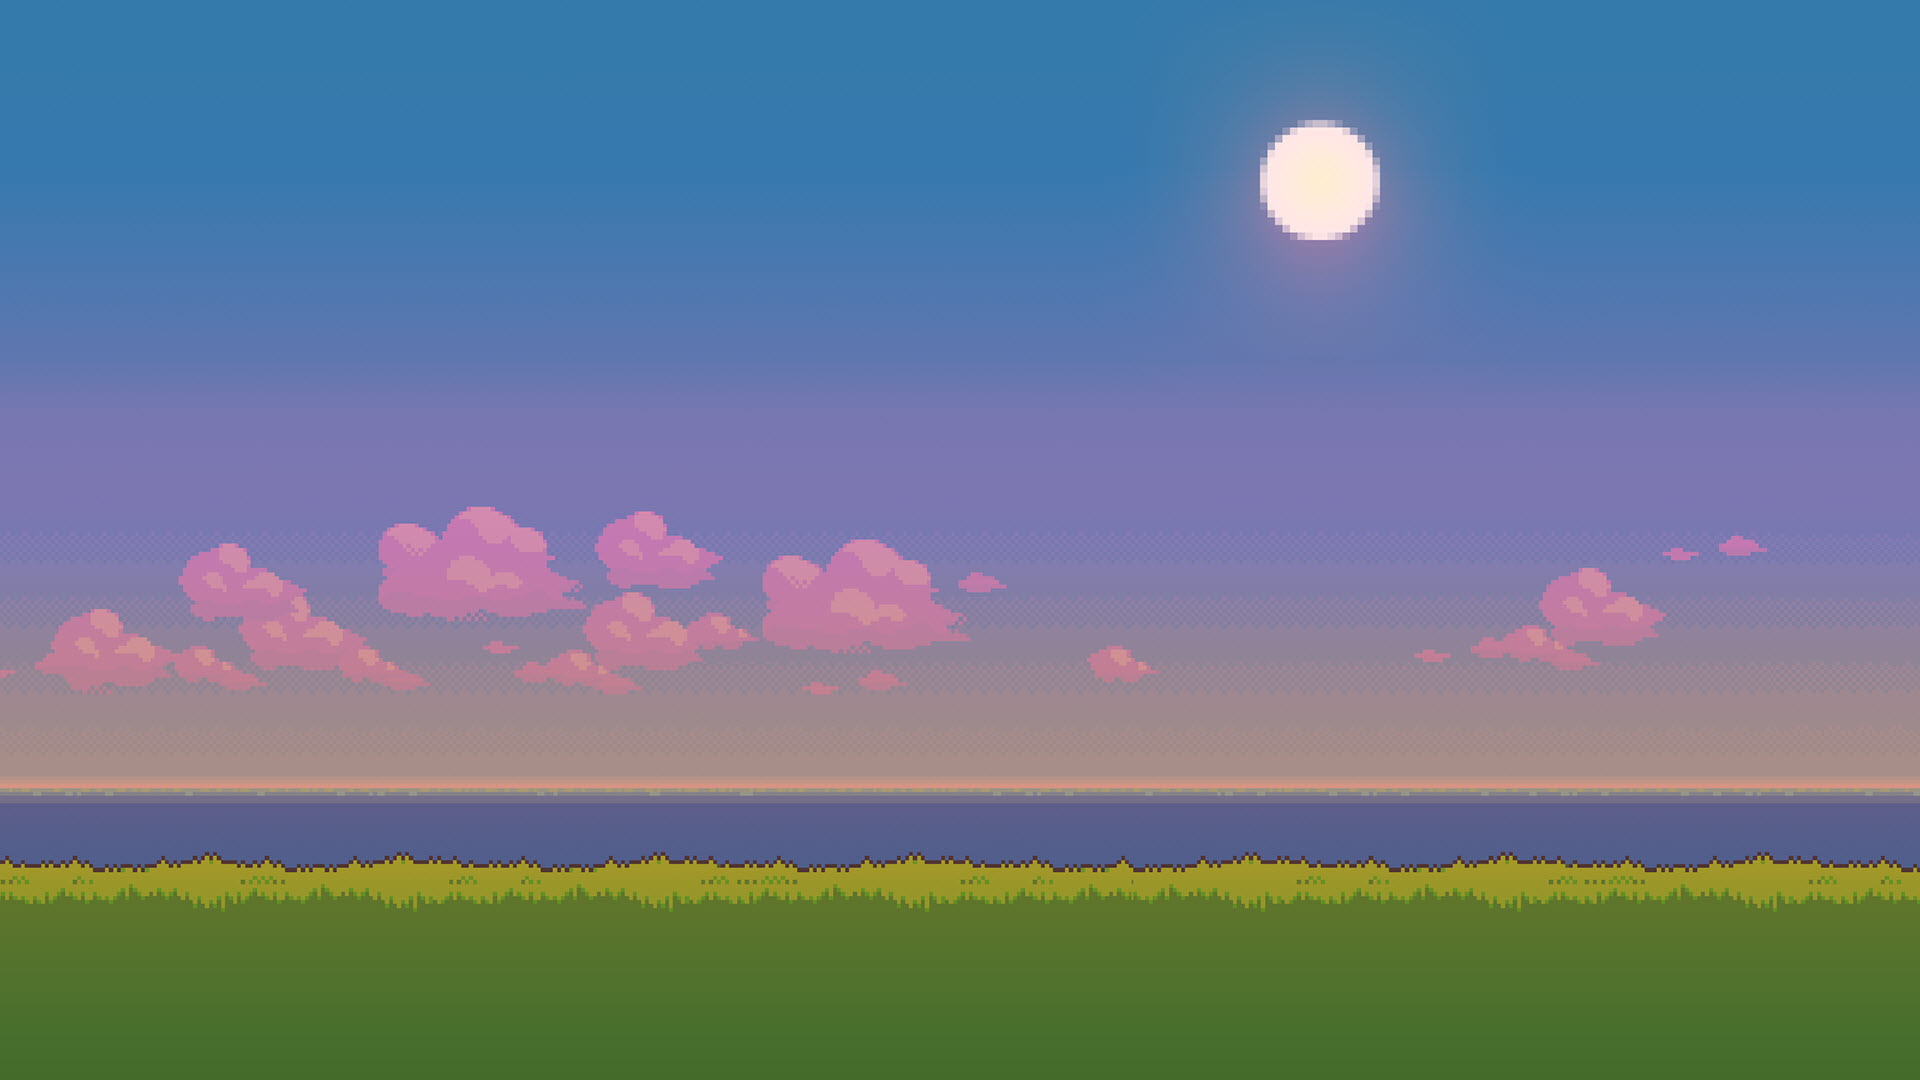beemonster: (764, 419, 795, 455), (1644, 289, 1676, 324)
character: (711, 644, 781, 713)
door: (1273, 127, 1370, 237)
flymonster: (905, 538, 936, 574), (853, 531, 884, 568)
ground: (597, 728, 893, 872), (9, 793, 497, 866), (1015, 790, 1294, 872), (1407, 816, 1909, 855), (1775, 680, 1913, 812)
ground_empty: (7, 869, 1913, 1077)
ground_grass: (858, 327, 1480, 373), (140, 468, 645, 505), (1425, 541, 1742, 568), (1025, 580, 1215, 618), (502, 599, 687, 616)
health_buff: (1336, 621, 1360, 654), (516, 316, 541, 339)
littlemonster: (459, 411, 500, 450), (533, 816, 564, 852), (963, 261, 993, 298), (934, 807, 964, 843), (1341, 823, 1371, 858), (1461, 473, 1491, 509)
monster: (1114, 742, 1149, 789), (1869, 617, 1902, 653), (1495, 758, 1528, 794), (1222, 752, 1254, 789)
smallmonster: (105, 746, 138, 782), (256, 417, 287, 454), (1171, 742, 1203, 779), (1261, 269, 1291, 305)
wallmonster: (869, 262, 899, 299), (553, 413, 583, 448)
window: (1, 382, 497, 1077)
